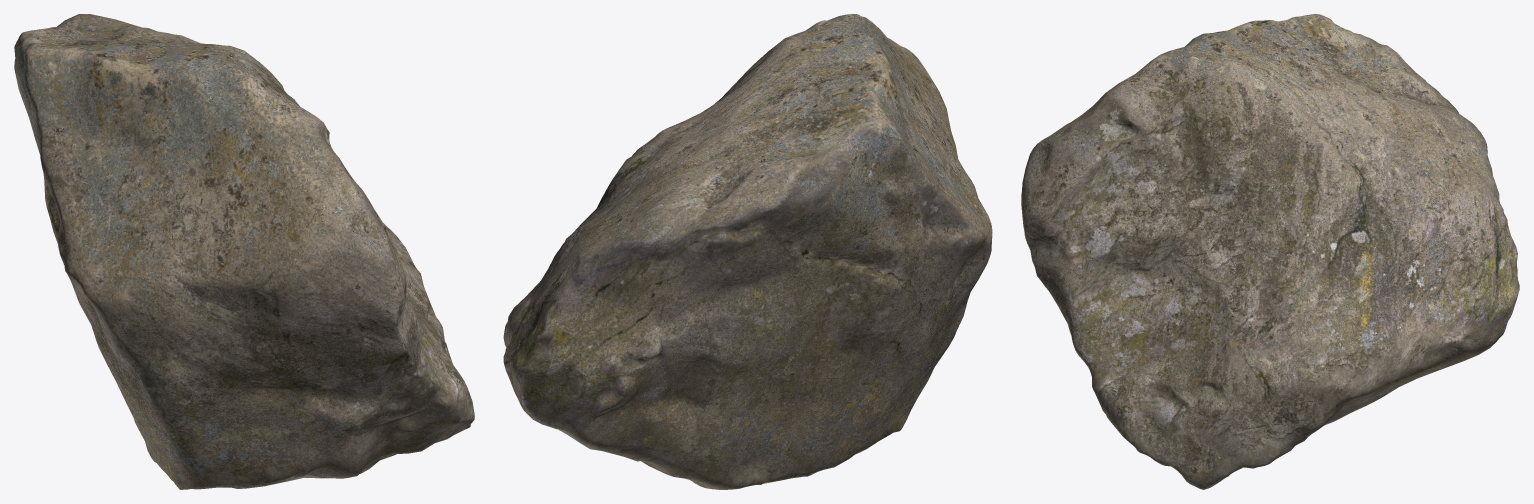
Rendered from shopk_tier_2.gltf.
The picture shows the model from 3 angles, left to right: view 1: azimuth 30°, elevation 25°; view 2: azimuth 150°, elevation 25°; view 3: azimuth 270°, elevation 25°; orthographic projection. The views are drawn at different scales.
Parts seen in each view (by area): view 1: shopk_LOD0_TIER2_000; view 2: shopk_LOD0_TIER2_000; view 3: shopk_LOD0_TIER2_000.
Part boxes in pixels (bbox=[...]): shopk_LOD0_TIER2_000: bbox=[14, 14, 474, 489]; shopk_LOD0_TIER2_000: bbox=[503, 14, 992, 489]; shopk_LOD0_TIER2_000: bbox=[1021, 14, 1519, 489].
Bounding box in the file's own units: 1.21 × 1.26 × 1.61.
1 material, 1 textured.
